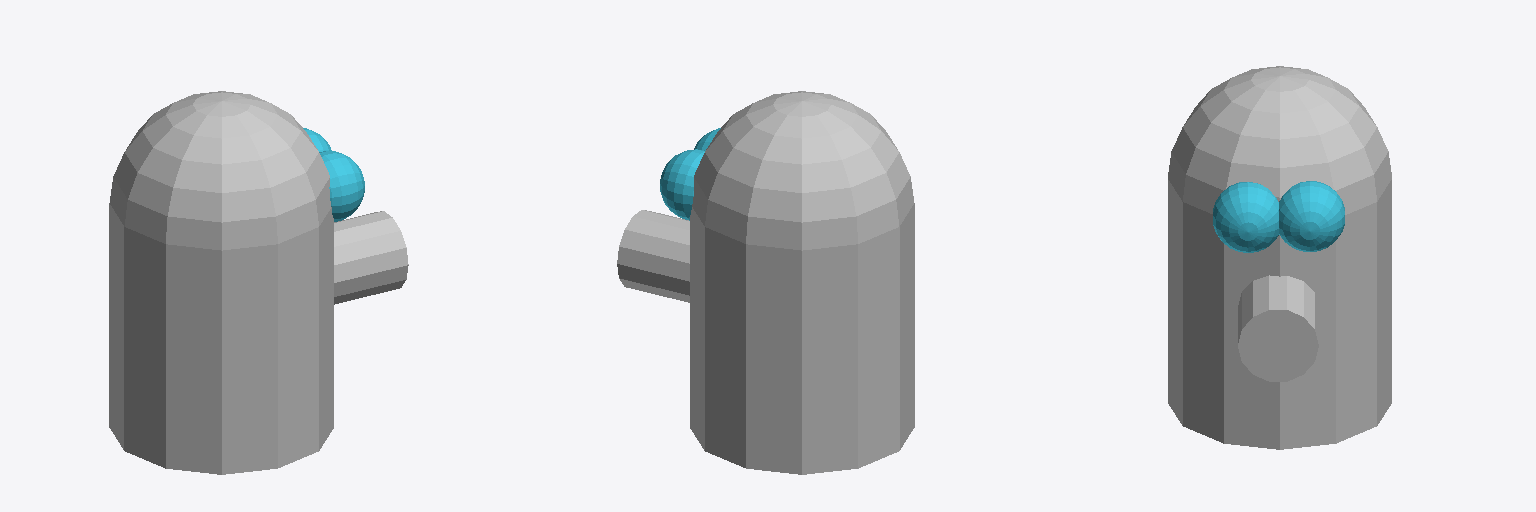
The model's file is robot6.obj.
3 views of the same model, side by side, from view 1: azimuth 30°, elevation 25°; view 2: azimuth 150°, elevation 25°; view 3: azimuth 270°, elevation 25° (orthographic).
Visible parts, largest first — view 1: objCapsule01, objCylinder01, objSphere02; view 2: objCapsule01, objCylinder01, objSphere01; view 3: objCapsule01, objCylinder01, objSphere02, objSphere01.
Part boxes in pixels (x1,y1,x2,y2): objCapsule01: (109, 91, 333, 474); objCylinder01: (334, 211, 408, 304); objSphere02: (319, 151, 364, 221); objCapsule01: (690, 91, 914, 474); objCylinder01: (617, 210, 689, 302); objSphere01: (660, 149, 704, 220); objCapsule01: (1168, 66, 1391, 449); objCylinder01: (1238, 275, 1318, 381); objSphere02: (1213, 182, 1278, 252); objSphere01: (1279, 181, 1344, 251).
Size of the model in its own units: 70.65 by 83.75 by 52.31.